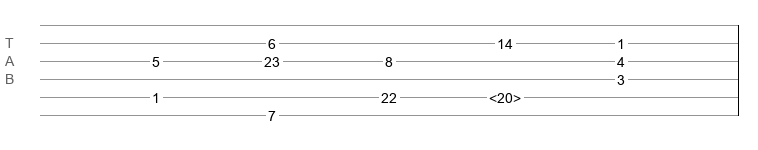1: (152, 90, 160, 100), (617, 36, 625, 46)
14: (497, 36, 513, 46)
22: (381, 90, 397, 100)
23: (264, 54, 280, 64)
3: (617, 72, 625, 82)
4: (617, 54, 625, 64)
5: (152, 54, 160, 64)
6: (268, 36, 276, 46)
7: (268, 108, 276, 118)
8: (385, 54, 393, 64)
harmonic: (489, 90, 521, 100)
